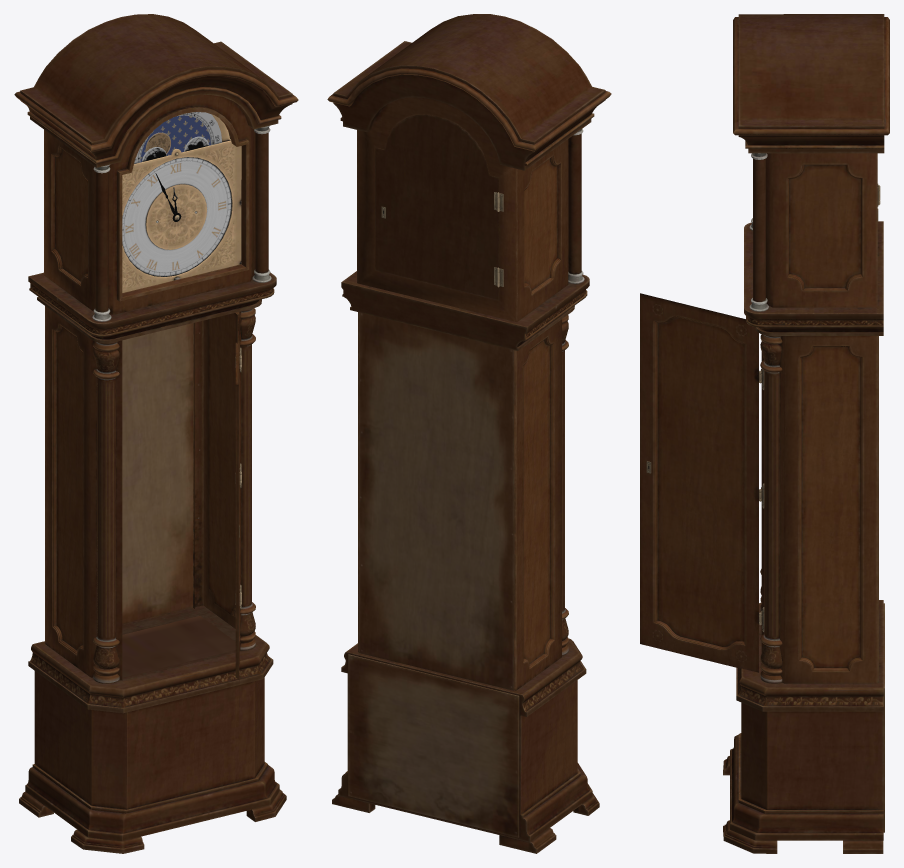
File: Clock.fbx
The picture shows the model from 3 angles, left to right: view 1: azimuth 30°, elevation 25°; view 2: azimuth 150°, elevation 25°; view 3: azimuth 270°, elevation 25°; orthographic projection. The views are drawn at different scales.
Visible parts, largest first — view 1: vintage_grandfather_clock_01_Body, vintage_grandfather_clock_01_Body.001; view 2: vintage_grandfather_clock_01_Body; view 3: vintage_grandfather_clock_01_Body, vintage_grandfather_clock_01_Body.001.
Boxes of the visible parts, <box> form: vintage_grandfather_clock_01_Body: <box>14,14,298,853</box>; vintage_grandfather_clock_01_Body.001: <box>235,321,239,706</box>; vintage_grandfather_clock_01_Body: <box>327,14,611,853</box>; vintage_grandfather_clock_01_Body: <box>723,14,889,853</box>; vintage_grandfather_clock_01_Body.001: <box>640,293,758,672</box>.
Bounding box in the file's own units: 62.56 × 219 × 63.87.
